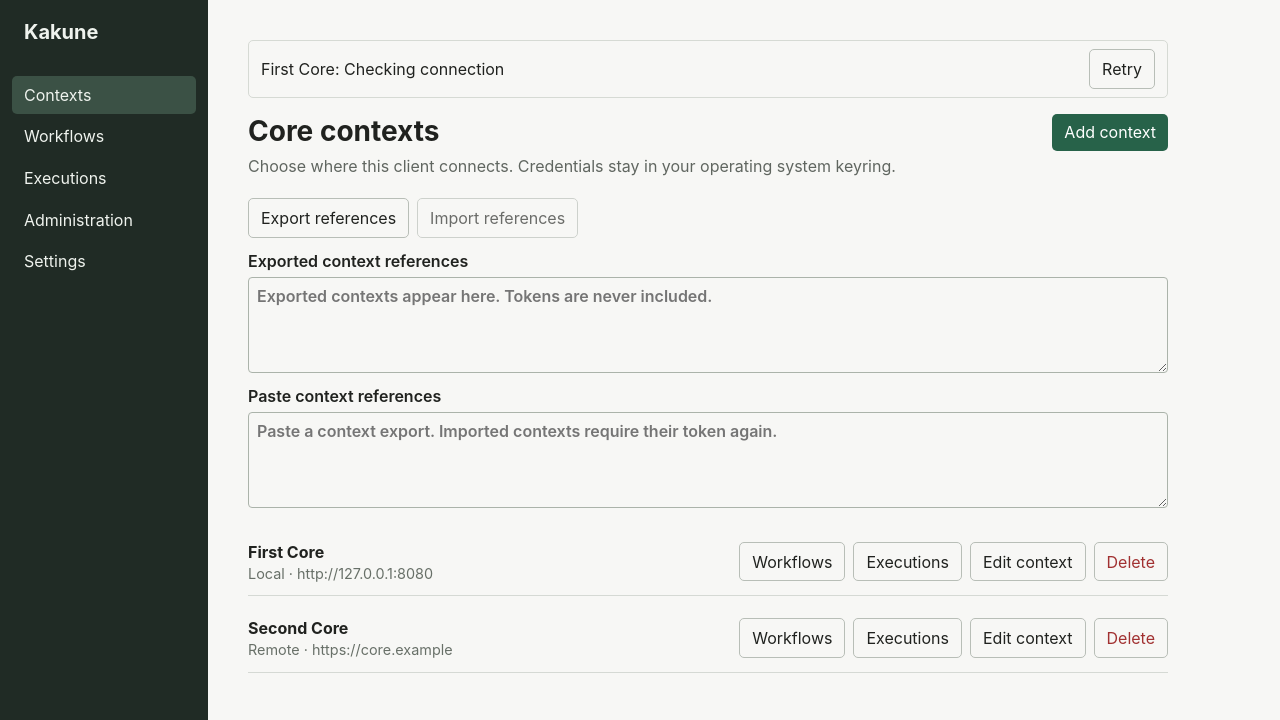
Test: Context isolation › does not render a late workflow response from a previously selected context
This screenshot has width=1280, height=720.
Click the button "Workflows" below "Kakune" at (104, 136), box [12,118,196,155]
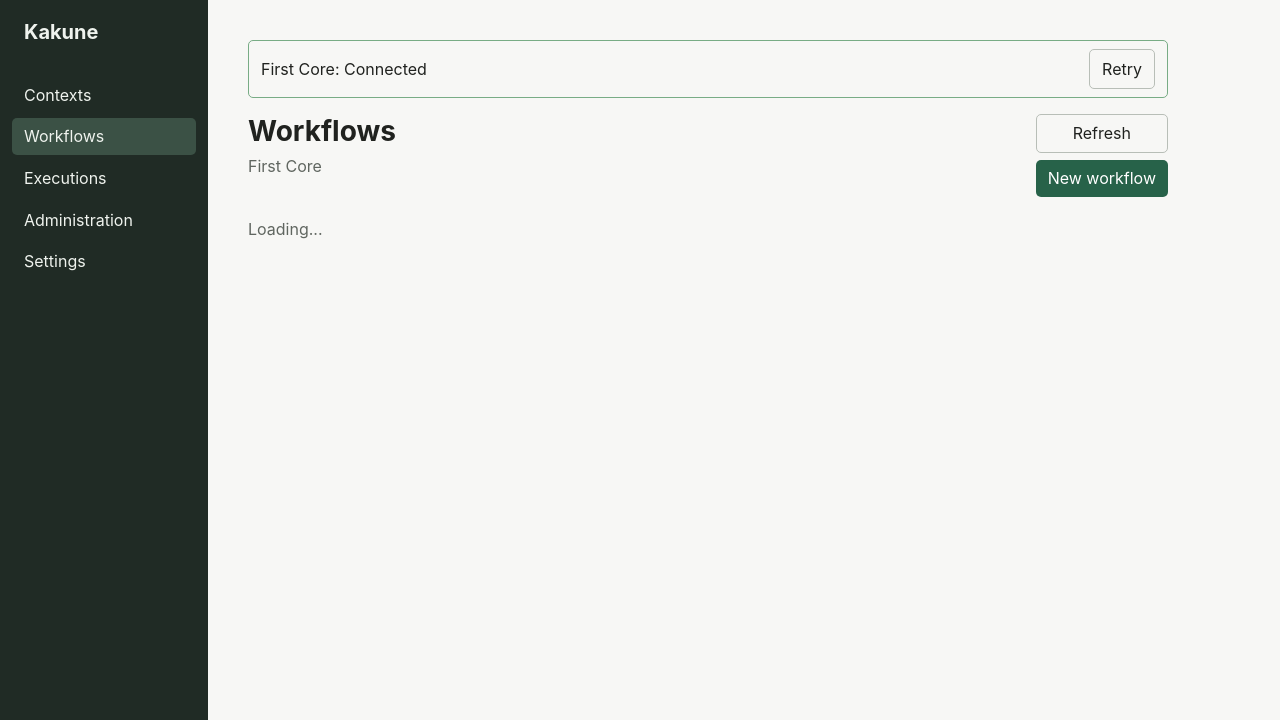
Click the button "Contexts" at (104, 95), box [12,76,196,114]
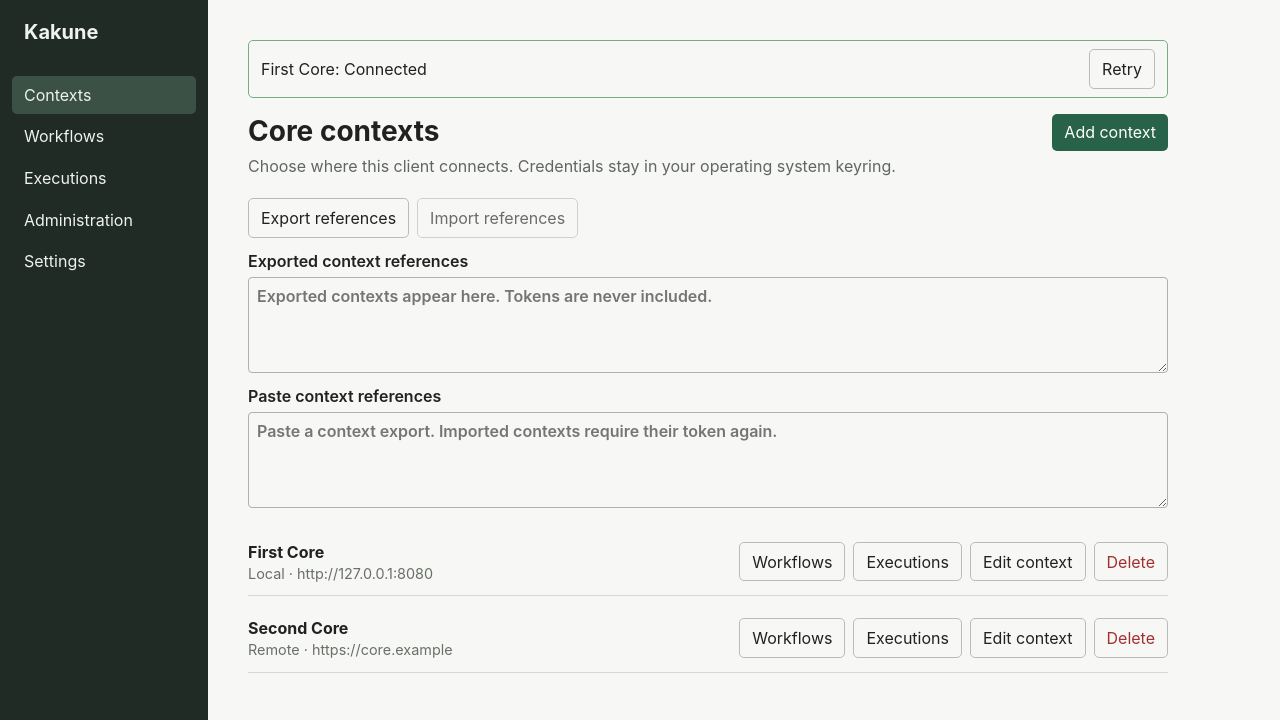
Expected: the list item "Second Core" is shown, [248,618,348,638]
Click the button "Workflows" in the row of "Second Core" at (792, 638), box [739,618,846,658]
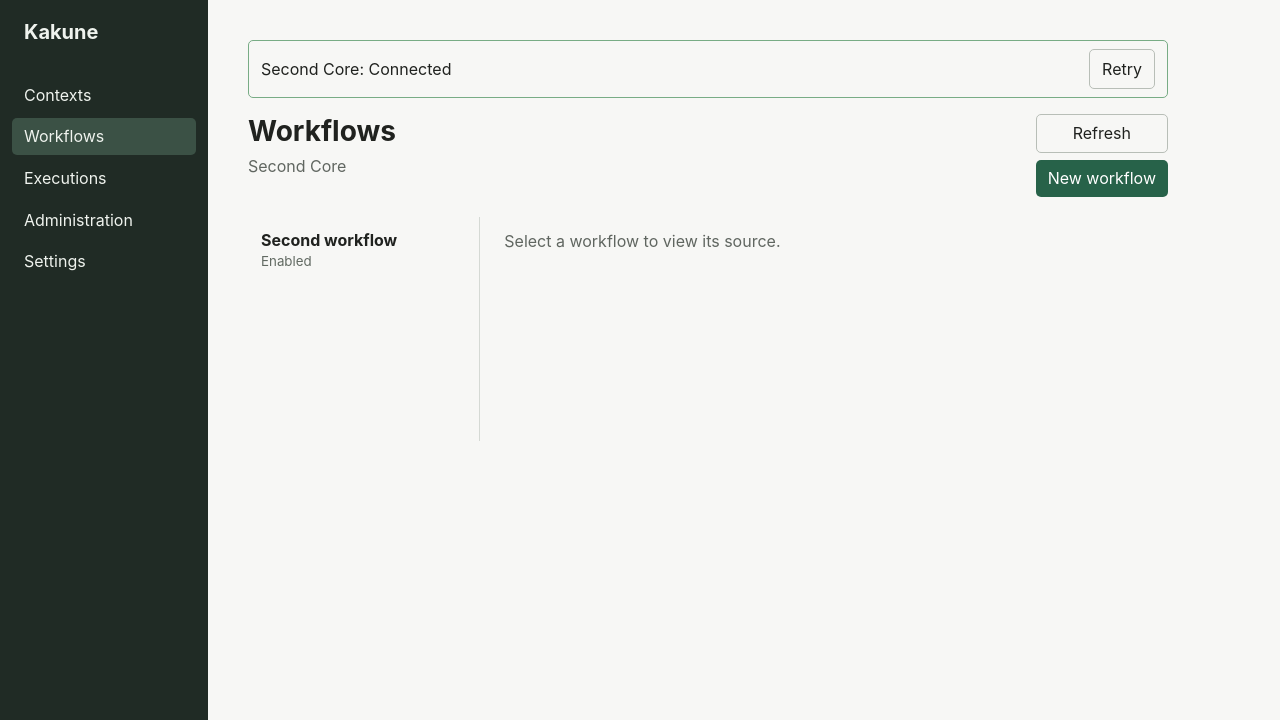
Expected: the text "Second workflow" is shown, [261,230,397,250]
